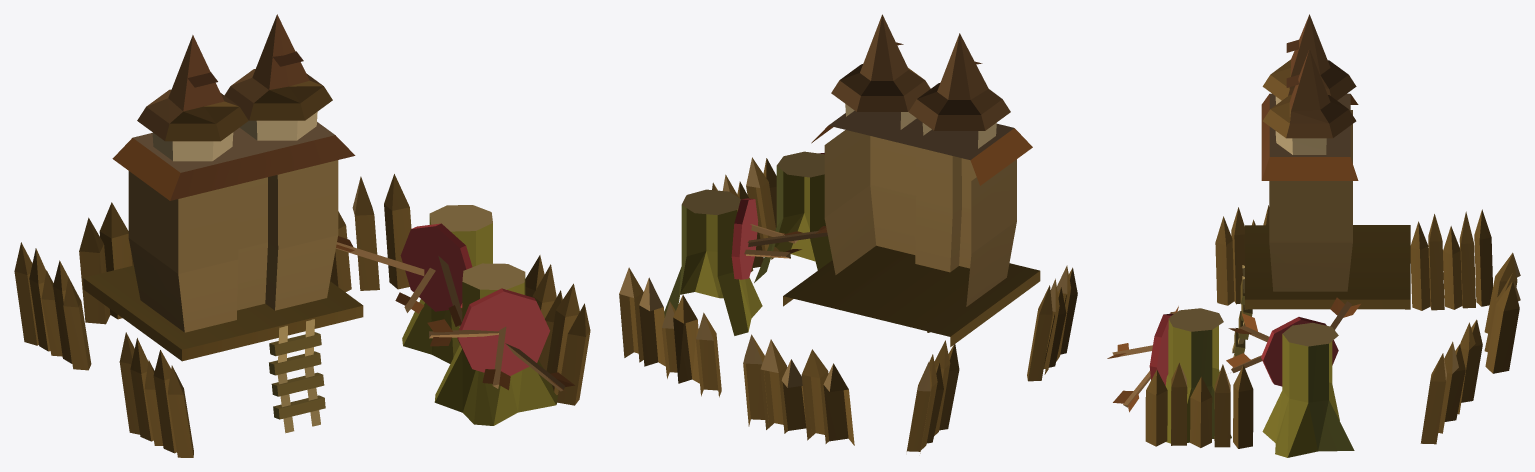
File: building39.fbx
3 views of the same model, side by side, from view 1: azimuth 30°, elevation 25°; view 2: azimuth 150°, elevation 25°; view 3: azimuth 270°, elevation 25° (orthographic). The views are drawn at different scales.
Parts seen in each view (by area): view 1: building39; view 2: building39; view 3: building39.
Boxes of the visible parts, bbox=[...] form: building39: bbox=[14, 14, 590, 457]; building39: bbox=[619, 14, 1077, 453]; building39: bbox=[1107, 14, 1520, 457].
Bounding box in the file's own units: 2.8 × 2.49 × 2.95.
1 material, 1 textured.
